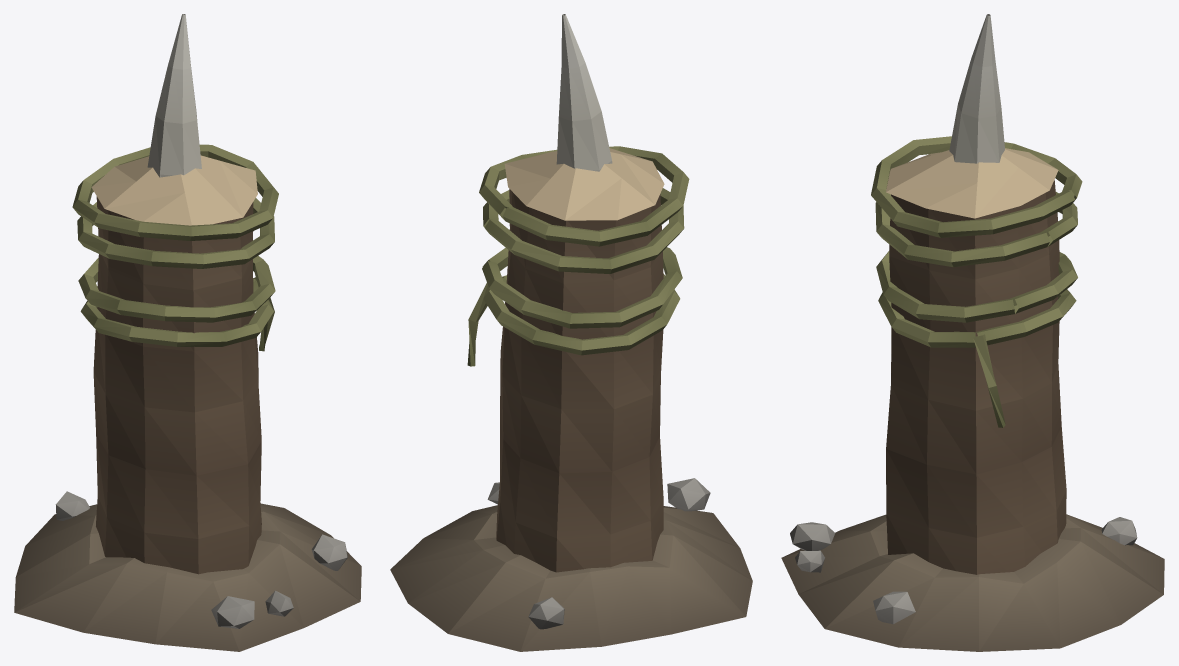
The model's file is bone_stake_a.glb.
3 renders of one model, left to right at view 1: azimuth 30°, elevation 25°; view 2: azimuth 150°, elevation 25°; view 3: azimuth 270°, elevation 25°, orthographic. The views are drawn at different scales.
Parts seen in each view (by area): view 1: bone_stake_a; view 2: bone_stake_a; view 3: bone_stake_a.
Part boxes in pixels (box(x1,y1,x2,y2)): bone_stake_a: box(14, 14, 361, 651); bone_stake_a: box(390, 14, 752, 651); bone_stake_a: box(781, 14, 1164, 651).
Size of the model in its own units: 0.5708 by 0.9505 by 0.5837.
